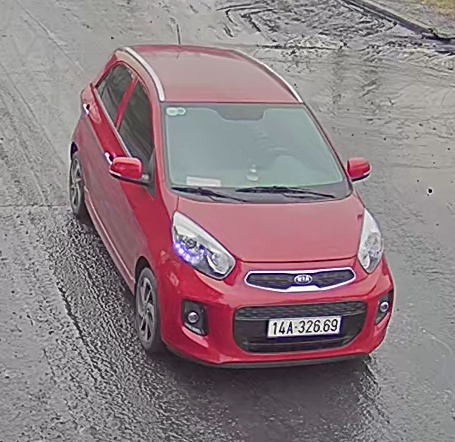vehicle plate: (267, 313, 344, 340)
